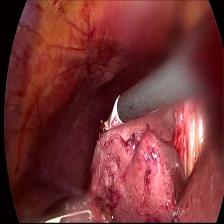Grasper: (48, 206, 98, 224)
Hook: (98, 97, 126, 133)
